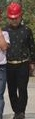boots: (0, 107, 4, 113), (0, 116, 7, 119)
gloves: (0, 68, 4, 85)
hard-hat: (5, 2, 20, 18)
